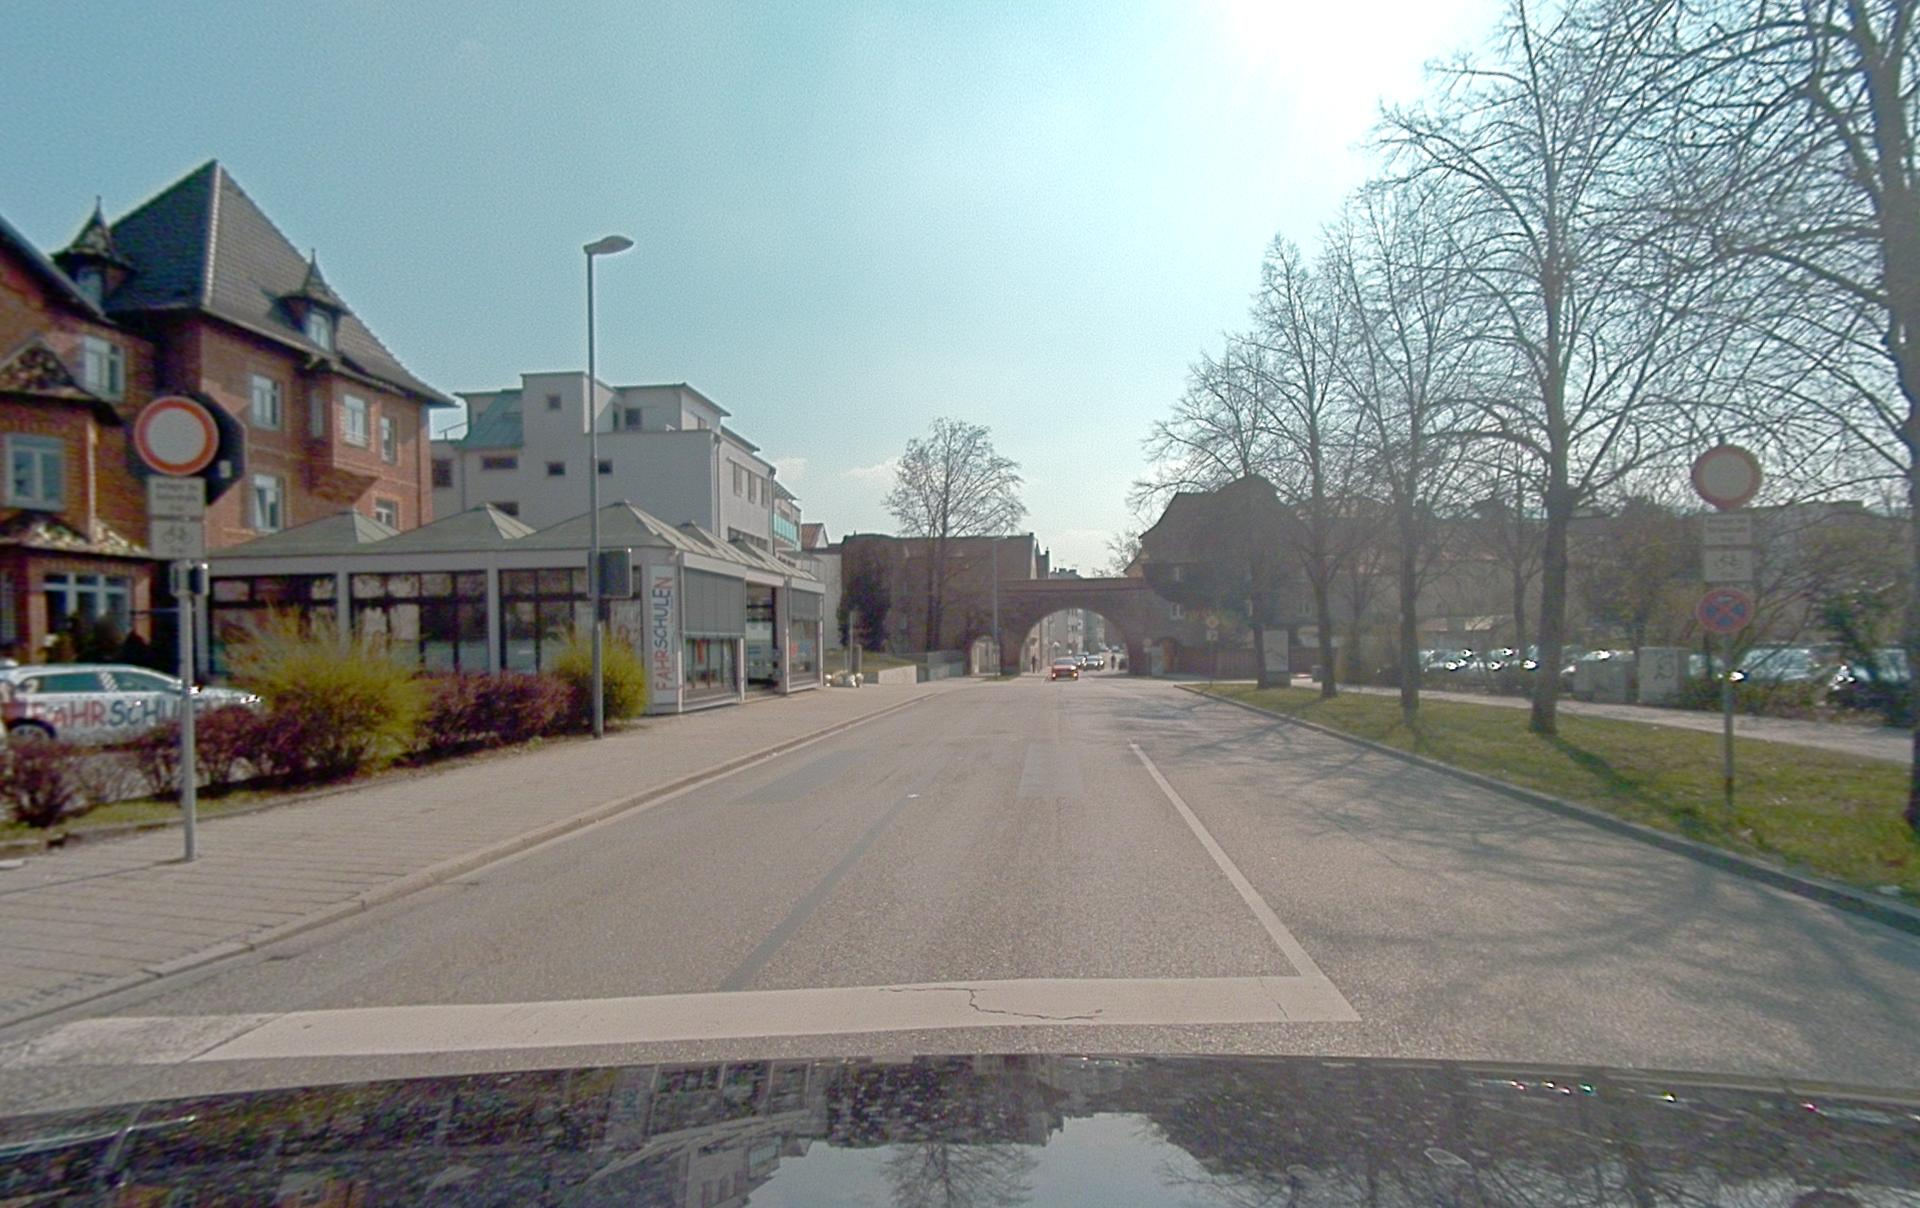car: (0, 662, 264, 749), (1049, 657, 1080, 681), (1078, 654, 1105, 669)
traffic sign: (1696, 587, 1753, 633)
